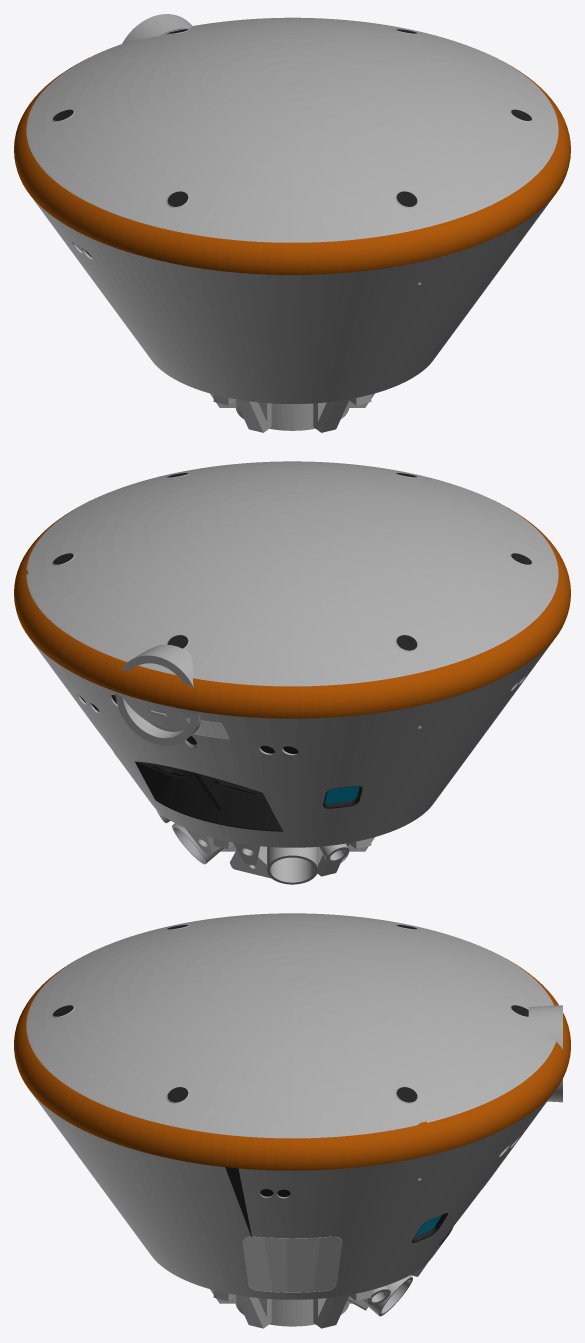
File: nasa_orion.glb
3 views of the same model, one above another, from view 1: azimuth 30°, elevation 25°; view 2: azimuth 150°, elevation 25°; view 3: azimuth 270°, elevation 25° (orthographic).
Visible parts, largest first — view 1: Orion Nofbc, Orion Plug; view 2: Orion Nofbc, Orion Plug; view 3: Orion Nofbc, Orion Plug.
Part boxes in pixels (box(x1,y1,x2,y2)): Orion Nofbc: box(14, 17, 570, 432); Orion Plug: box(122, 14, 193, 43); Orion Nofbc: box(14, 461, 570, 884); Orion Plug: box(115, 644, 200, 745); Orion Nofbc: box(14, 913, 570, 1328); Orion Plug: box(528, 1005, 562, 1102).
Size of the model in its own units: 16.31 by 10.63 by 16.3.
